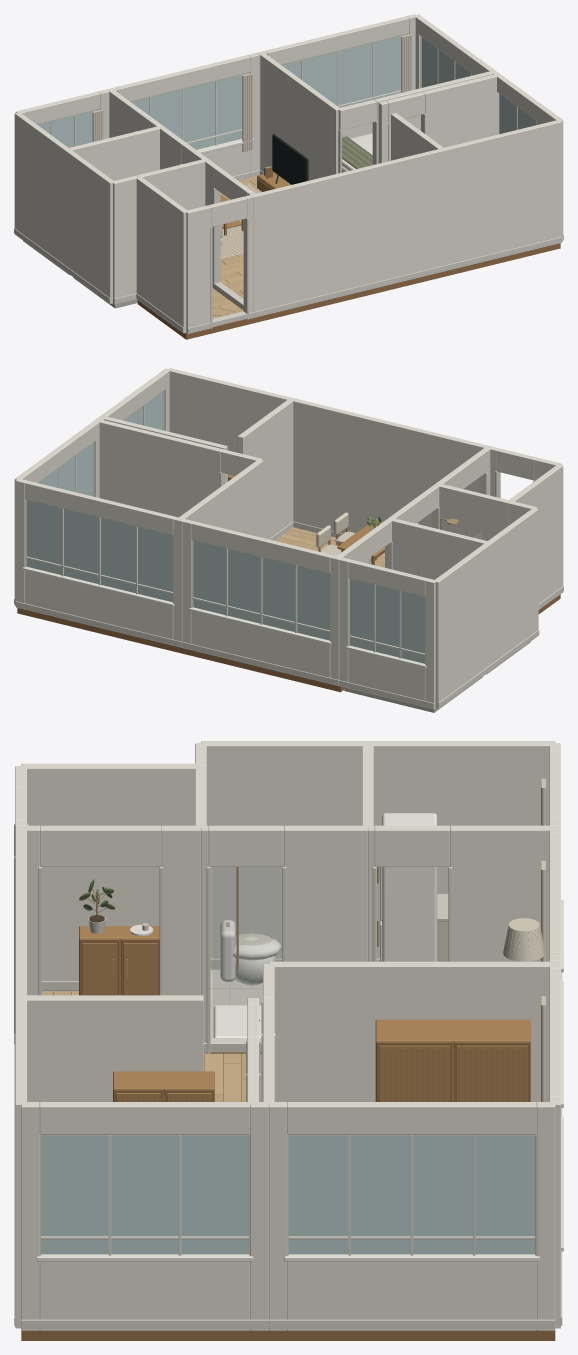
The model's file is old-home.glb.
3 views of the same model, one above another, from view 1: azimuth 30°, elevation 25°; view 2: azimuth 150°, elevation 25°; view 3: azimuth 270°, elevation 25° (orthographic). The views are drawn at different scales.
Parts seen in each view (by area): view 1: Plaster wall (×28), Pale glazing (×5), Skirting board (×3), Floor underlay (×2), Door jamb (×2), Television screen, Bound wool rug, Sage bed throw; view 2: Plaster wall (×29), Pale glazing (×5), Skirting board (×4), Floor underlay (×2), Stone window sill (×2); view 3: Plaster wall (×30), Pale glazing (×2), Oak door panel (×4), Shower glass screen, Carcass (×3), Refrigerator, Floor underlay, Skirting board (×2), Stone window sill (×2), Window rail (×2), Pleated shade, Shower tray (+4 smaller).
Boxes of the visible parts, x1=… form: Plaster wall (×28): x1=14, y1=14, x2=562, y2=333; Pale glazing (×5): x1=38, y1=34, x2=540, y2=149; Skirting board (×3): x1=14, y1=228, x2=562, y2=332; Floor underlay (×2): x1=137, y1=243, x2=560, y2=339; Door jamb (×2): x1=213, y1=188, x2=248, y2=319; Television screen: x1=272, y1=135, x2=305, y2=184; Bound wool rug: x1=220, y1=184, x2=260, y2=259; Sage bed throw: x1=342, y1=136, x2=372, y2=168; Plaster wall (×29): x1=16, y1=368, x2=563, y2=709; Pale glazing (×5): x1=26, y1=392, x2=424, y2=663; Skirting board (×4): x1=15, y1=601, x2=539, y2=708; Floor underlay (×2): x1=17, y1=608, x2=482, y2=712; Stone window sill (×2): x1=22, y1=567, x2=331, y2=645; Plaster wall (×30): x1=15, y1=741, x2=560, y2=1330; Pale glazing (×2): x1=41, y1=1136, x2=535, y2=1254; Oak door panel (×4): x1=82, y1=943, x2=527, y2=1101; Shower glass screen: x1=213, y1=867, x2=281, y2=1004; Carcass (×3): x1=79, y1=926, x2=530, y2=1101; Refrigerator: x1=382, y1=813, x2=437, y2=961; Floor underlay: x1=21, y1=1054, x2=555, y2=1340; Skirting board (×2): x1=21, y1=1319, x2=555, y2=1328; Stone window sill (×2): x1=36, y1=1254, x2=539, y2=1261; Window rail (×2): x1=41, y1=1236, x2=535, y2=1239; Pleated shade: x1=503, y1=918, x2=545, y2=961; Shower tray: x1=213, y1=1005, x2=261, y2=1037.
Bounding box in the file's own units: 8.96 × 2.69 × 5.67.
